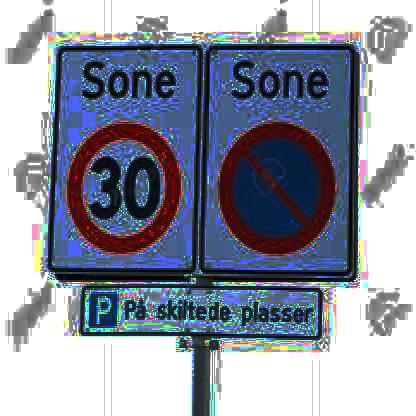Speed Limit -30-: (63, 120, 184, 255)
